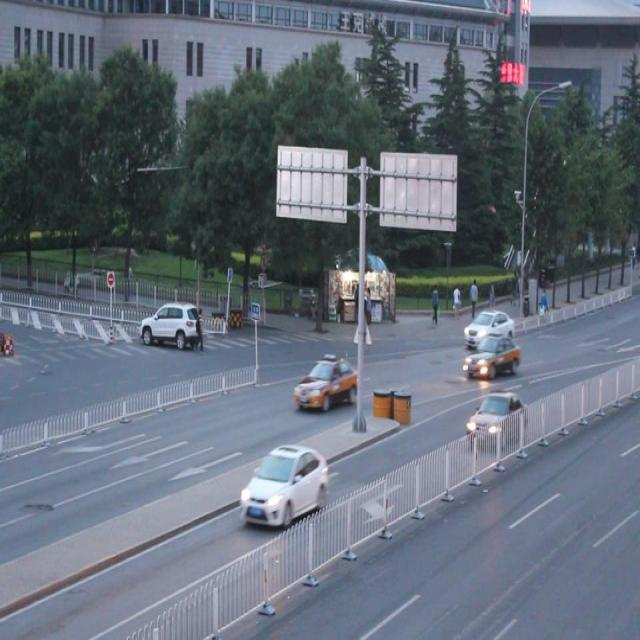car: (240, 442, 328, 526), (295, 354, 359, 414), (465, 389, 528, 445), (140, 301, 202, 348), (463, 334, 519, 379), (464, 308, 513, 343)
